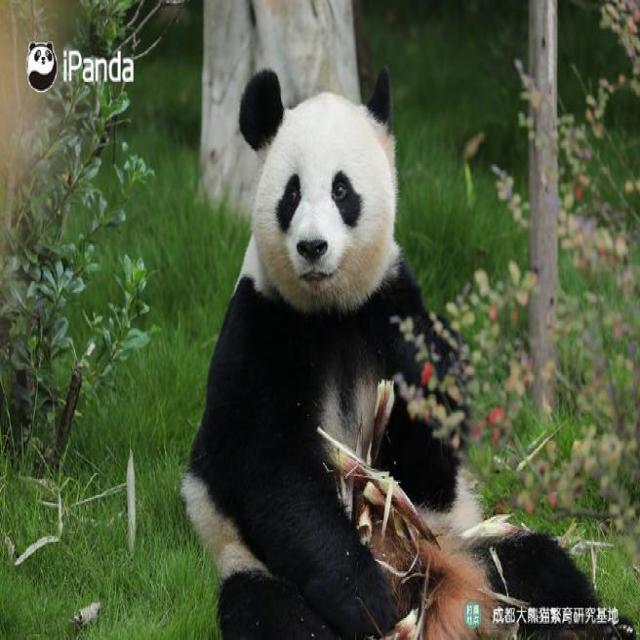panda: (189, 53, 546, 632)
